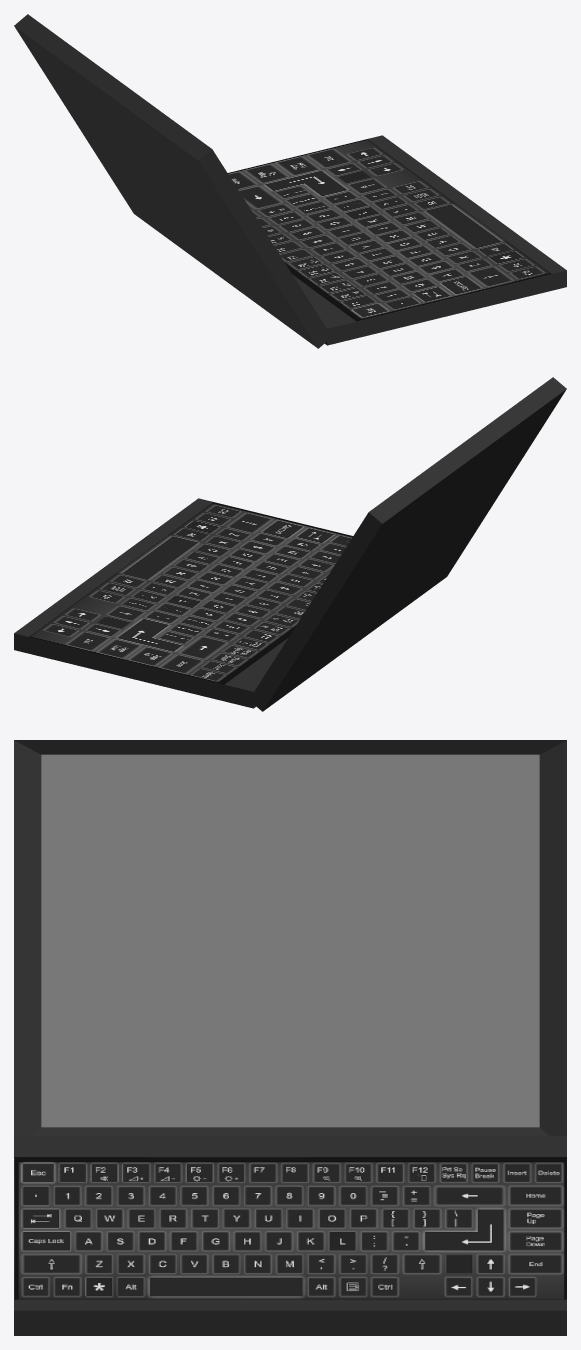
Rendered from computer.gltf.
The picture shows the model from 3 angles, top to bottom: view 1: azimuth 30°, elevation 25°; view 2: azimuth 150°, elevation 25°; view 3: azimuth 270°, elevation 25°; orthographic projection. The views are drawn at different scales.
Visible parts, largest first — view 1: Cube.016, Cube.017; view 2: Cube.016, Cube.017; view 3: Cube.017, Cube.016.
Part boxes in pixels (x1=…): Cube.016: x1=228, y1=135, x2=566, y2=345; Cube.017: x1=14, y1=14, x2=330, y2=348; Cube.016: x1=14, y1=498, x2=352, y2=708; Cube.017: x1=253, y1=377, x2=566, y2=711; Cube.017: x1=14, y1=740, x2=566, y2=1135; Cube.016: x1=14, y1=1135, x2=566, y2=1335.
Bounding box in the file's own units: 27.67 × 16.19 × 24.
3 materials, 1 textured.
